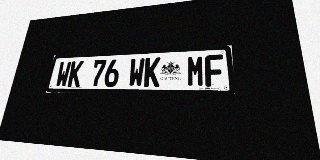6: (103, 59, 121, 87)
7: (90, 60, 107, 87)
F: (205, 54, 224, 87)
K: (143, 57, 161, 87), (67, 61, 84, 87)
M: (187, 55, 205, 87)
W: (128, 58, 145, 87), (55, 61, 72, 87)
